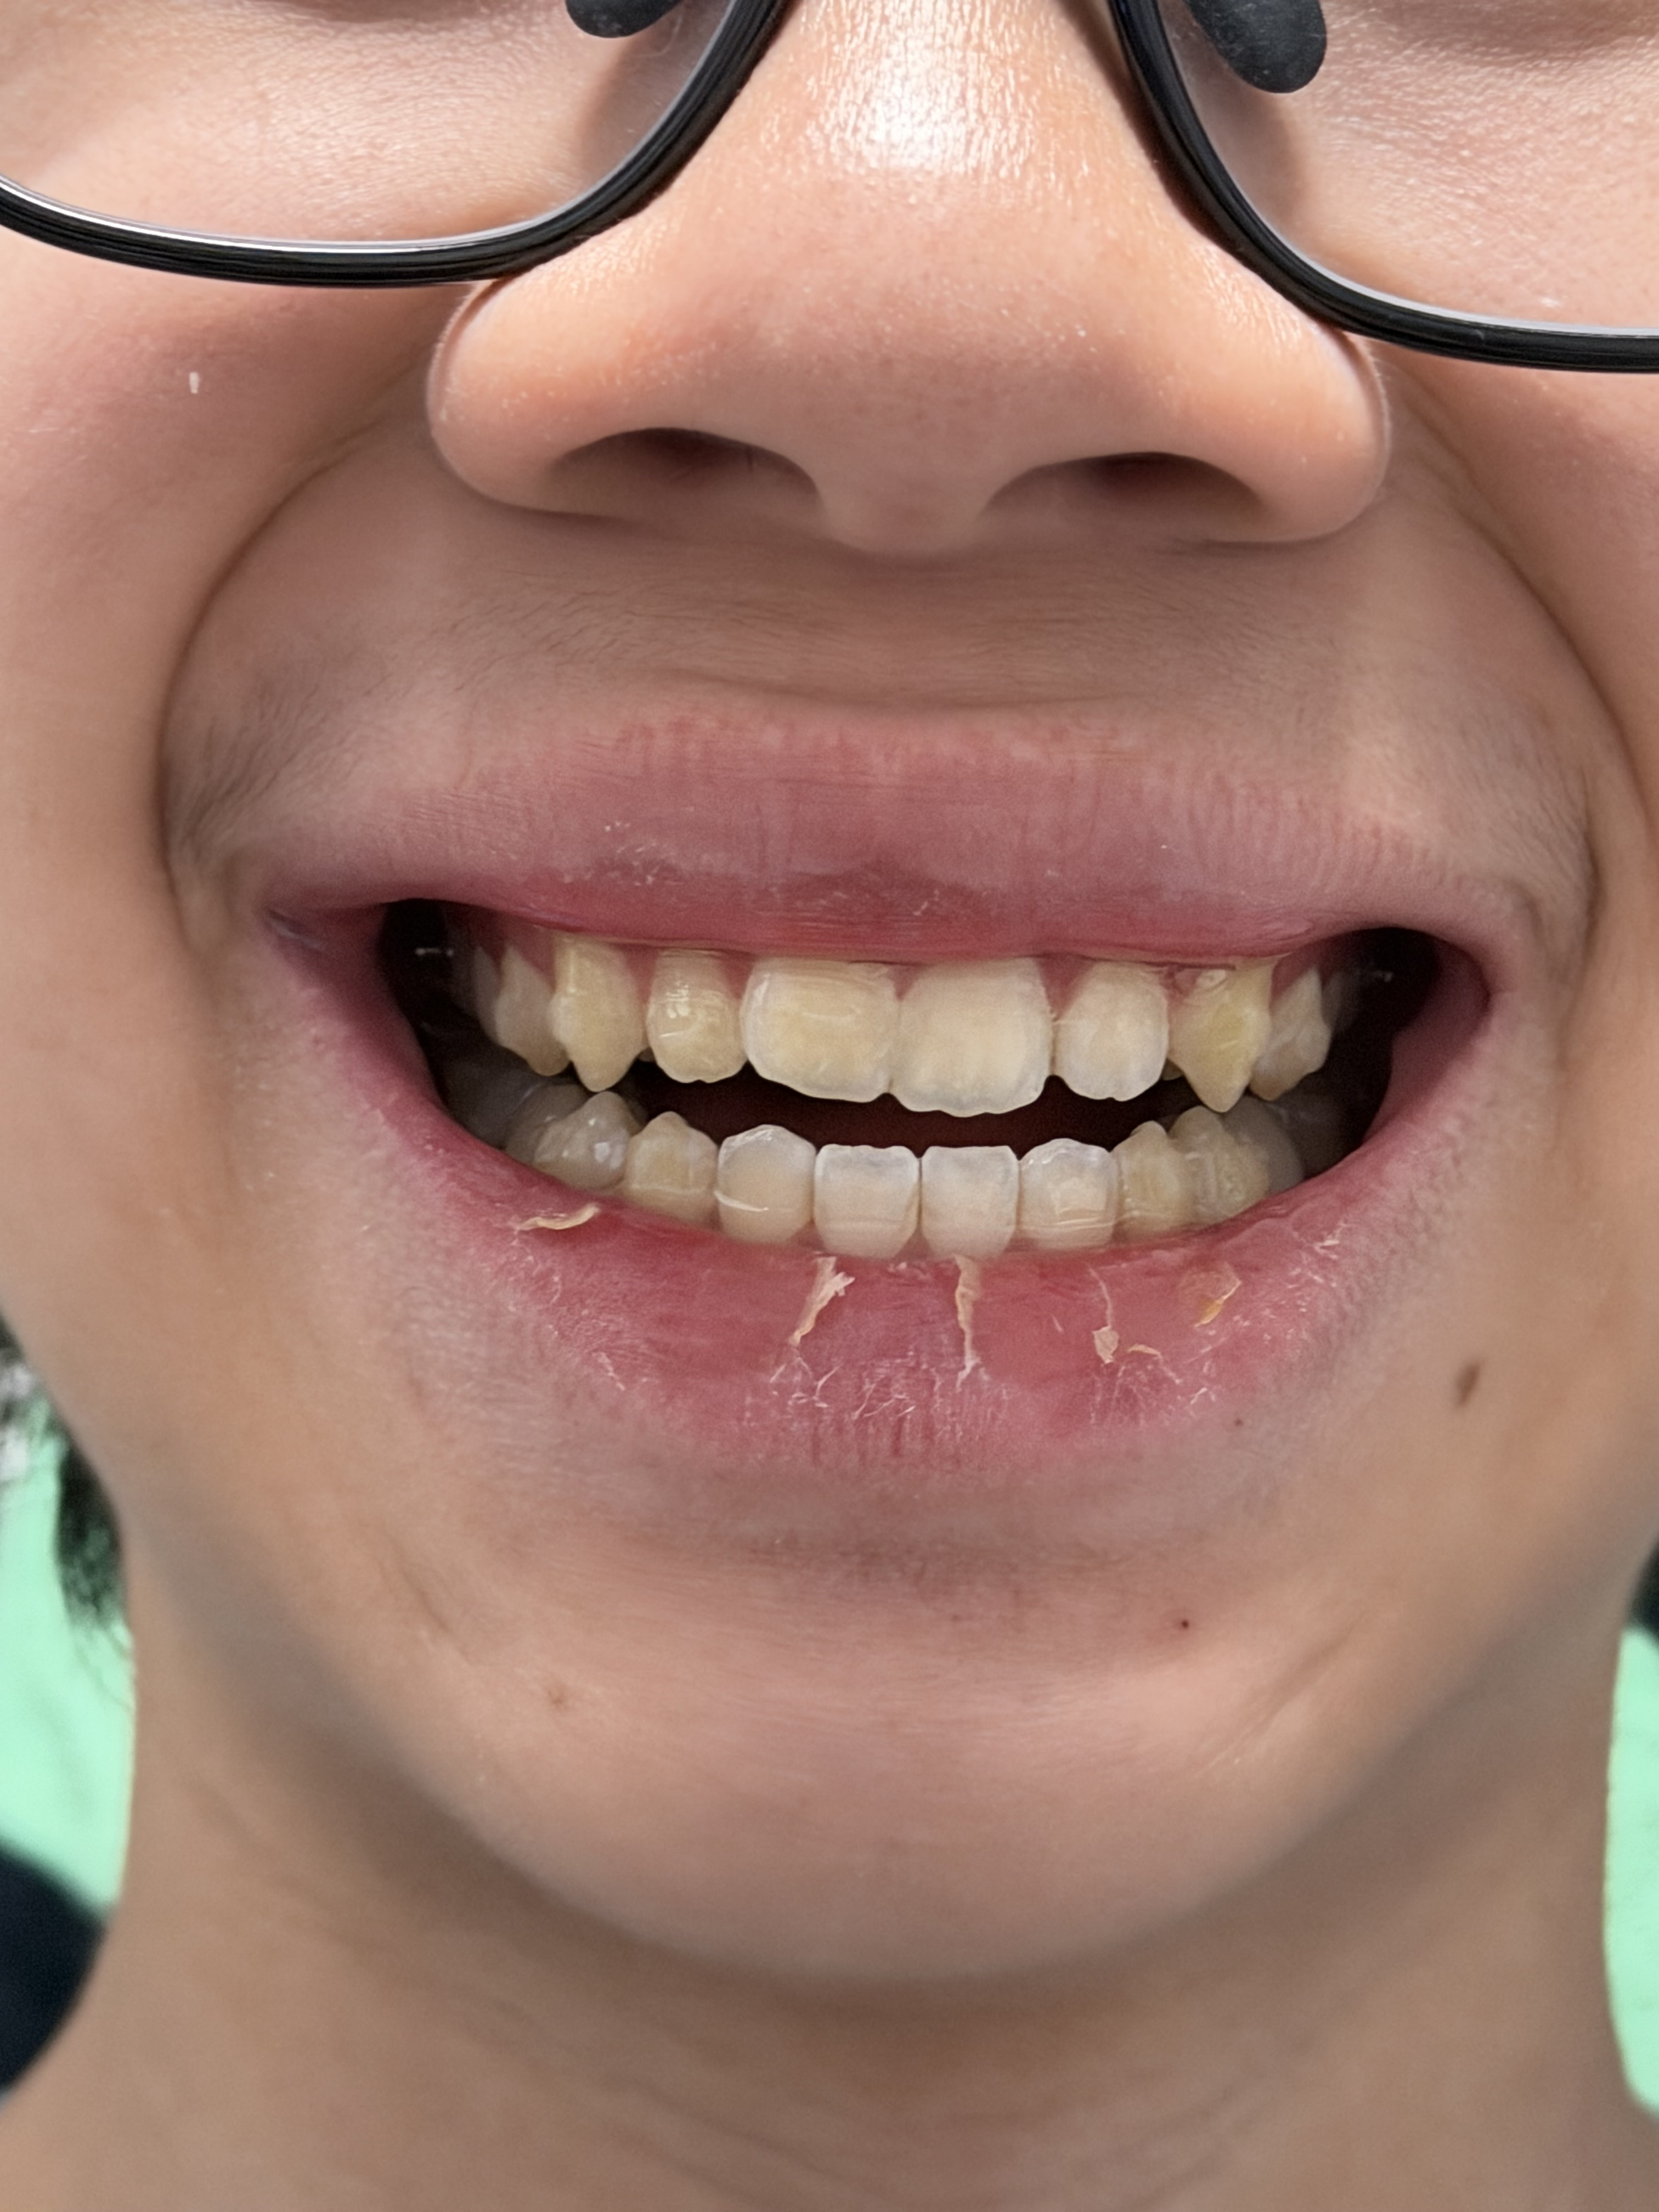teeth: (896, 958, 1040, 1097), (742, 970, 889, 1090), (1061, 963, 1169, 1090), (1176, 974, 1272, 1103), (556, 942, 633, 1082), (647, 954, 734, 1076), (810, 1153, 908, 1251), (1023, 1146, 1114, 1249), (723, 1136, 800, 1237), (927, 1158, 1011, 1251), (631, 1115, 708, 1212), (1187, 1116, 1263, 1211), (537, 1101, 622, 1179), (498, 948, 551, 1069), (1267, 986, 1328, 1089), (1131, 1129, 1194, 1226), (1227, 1108, 1304, 1179), (507, 1082, 575, 1150)
